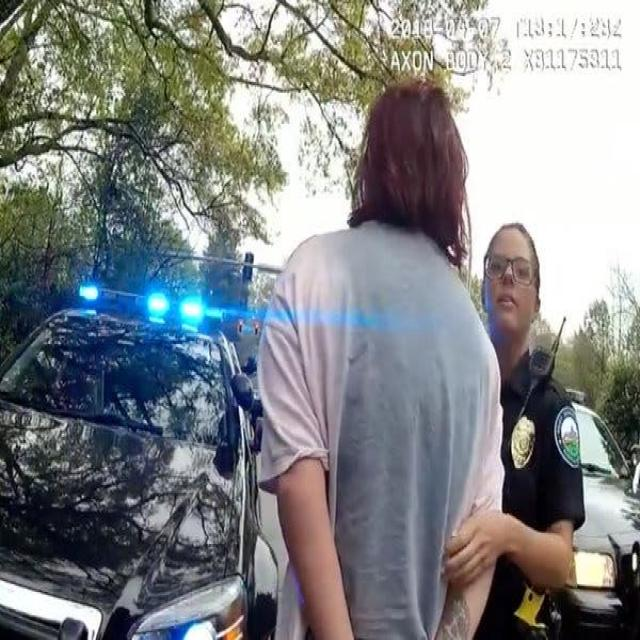police: (421, 209, 583, 640)
